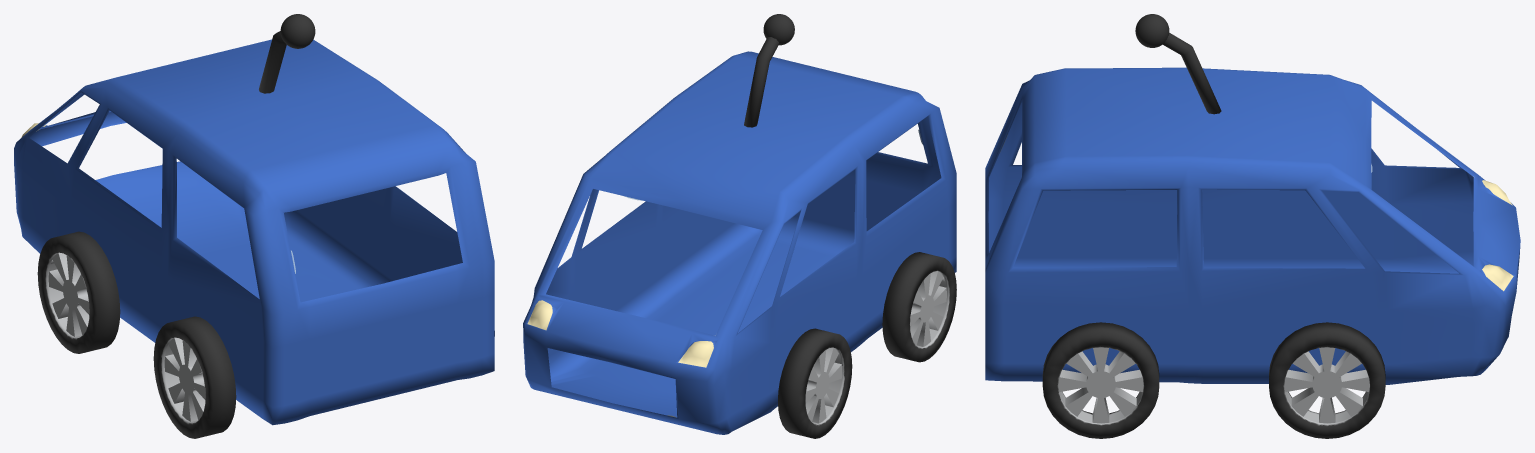
Rendered from RadioControlledCar.obj.
3 views of the same model, side by side, from view 1: azimuth 30°, elevation 25°; view 2: azimuth 150°, elevation 25°; view 3: azimuth 270°, elevation 25° (orthographic). The views are drawn at different scales.
Parts seen in each view (by area): view 1: Cube.001; view 2: Cube.001; view 3: Cube.001.
Part boxes in pixels (box(x1,y1,x2,y2)): Cube.001: box(14, 14, 494, 438); Cube.001: box(523, 14, 956, 438); Cube.001: box(985, 14, 1520, 438).
Bounding box in the file's own units: 3.81 × 4.73 × 6.44.
1 material, 1 textured.
